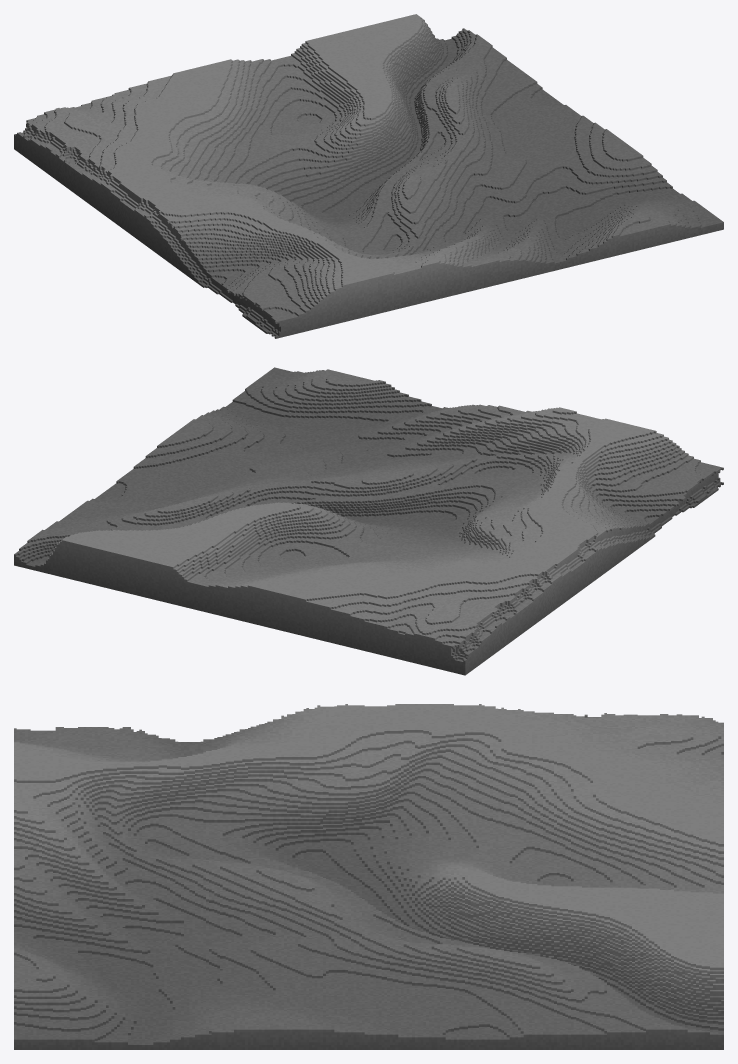
File: LunaGrande-9.obj
3 renders of one model, top to bottom at view 1: azimuth 30°, elevation 25°; view 2: azimuth 150°, elevation 25°; view 3: azimuth 270°, elevation 25°, orthographic. The views are drawn at different scales.
Size of the model in its own units: 25.5 by 2 by 25.5.
Materials: 1 (1 with a texture image).
